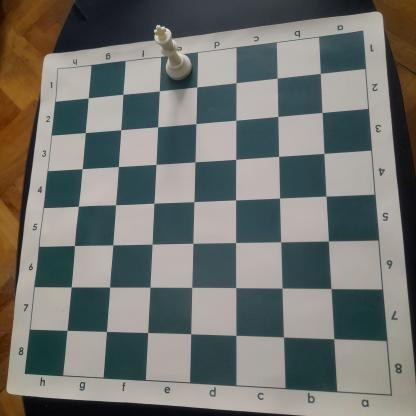white-king: (152, 22, 194, 82)
